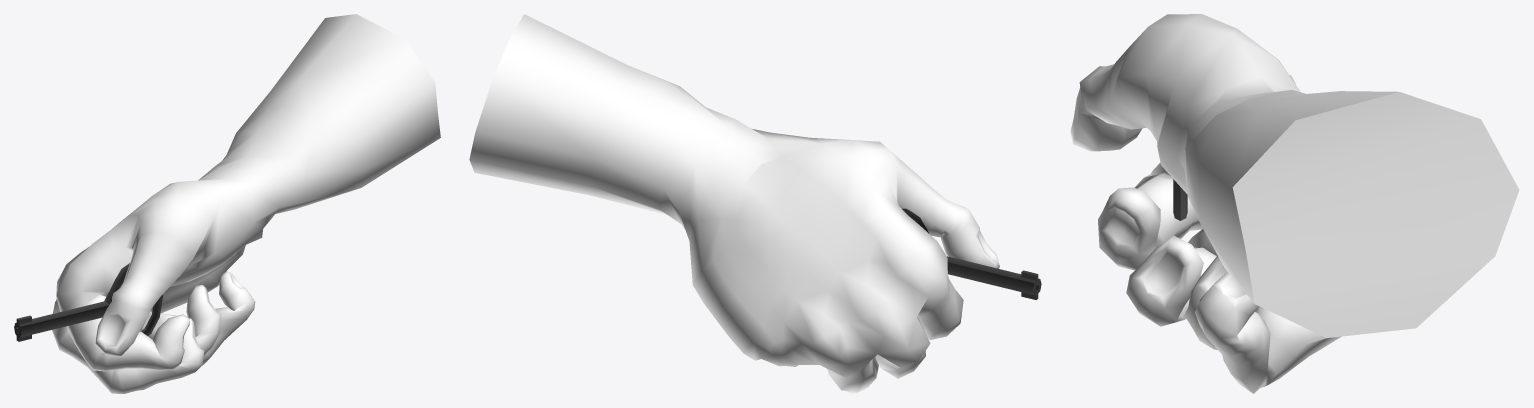
Rendered from HandWithKey.FBX.
3 views of the same model, side by side, from view 1: azimuth 30°, elevation 25°; view 2: azimuth 150°, elevation 25°; view 3: azimuth 270°, elevation 25° (orthographic). The views are drawn at different scales.
Parts seen in each view (by area): view 1: Brazos003; view 2: Brazos003; view 3: Brazos003.
Boxes of the visible parts, x1,y1,x2,y2 form: Brazos003: [14, 14, 440, 393]; Brazos003: [469, 14, 1041, 393]; Brazos003: [1070, 14, 1519, 393].
Size of the model in its own units: 27.53 by 16.72 by 14.04.
